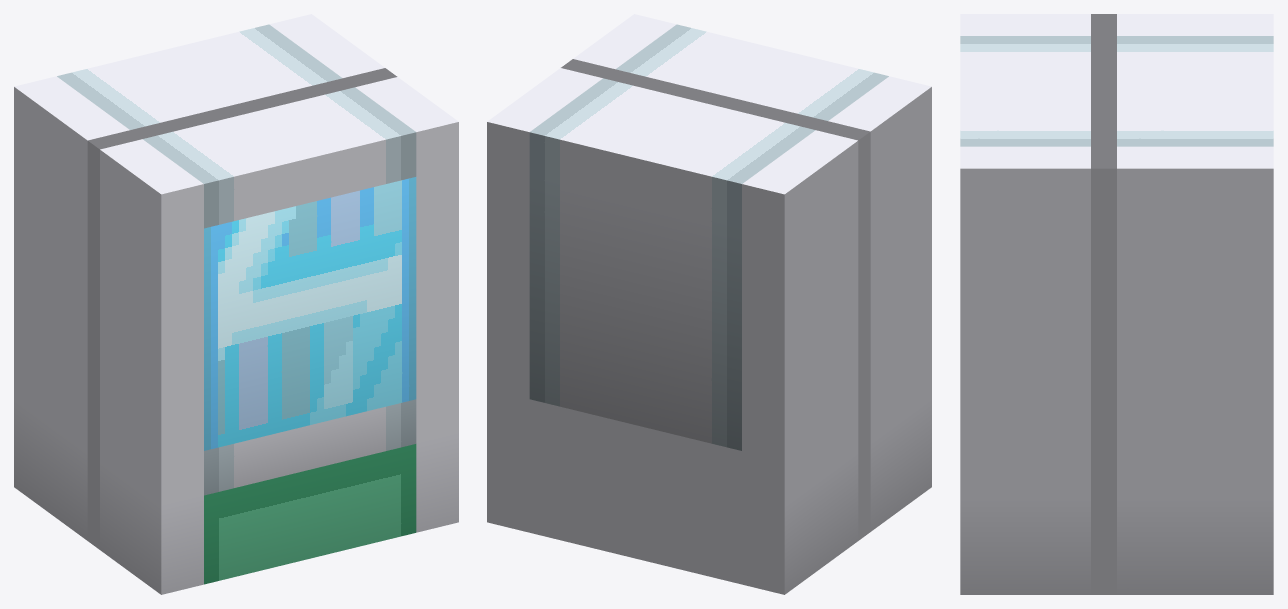
3 views of the same model, side by side, from view 1: azimuth 30°, elevation 25°; view 2: azimuth 150°, elevation 25°; view 3: azimuth 270°, elevation 25° (orthographic). The views are drawn at different scales.
Visible parts, largest first — view 1: shelf09b; view 2: shelf09b; view 3: shelf09b.
Part boxes in pixels (<box>): shelf09b: <box>14,14,458,594</box>; shelf09b: <box>487,14,931,594</box>; shelf09b: <box>960,14,1273,594</box>.
Size of the model in its own units: 1.75 by 2.25 by 1.5.
Materials: 1 (1 with a texture image).
